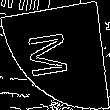M_E: (29, 28, 81, 82)
